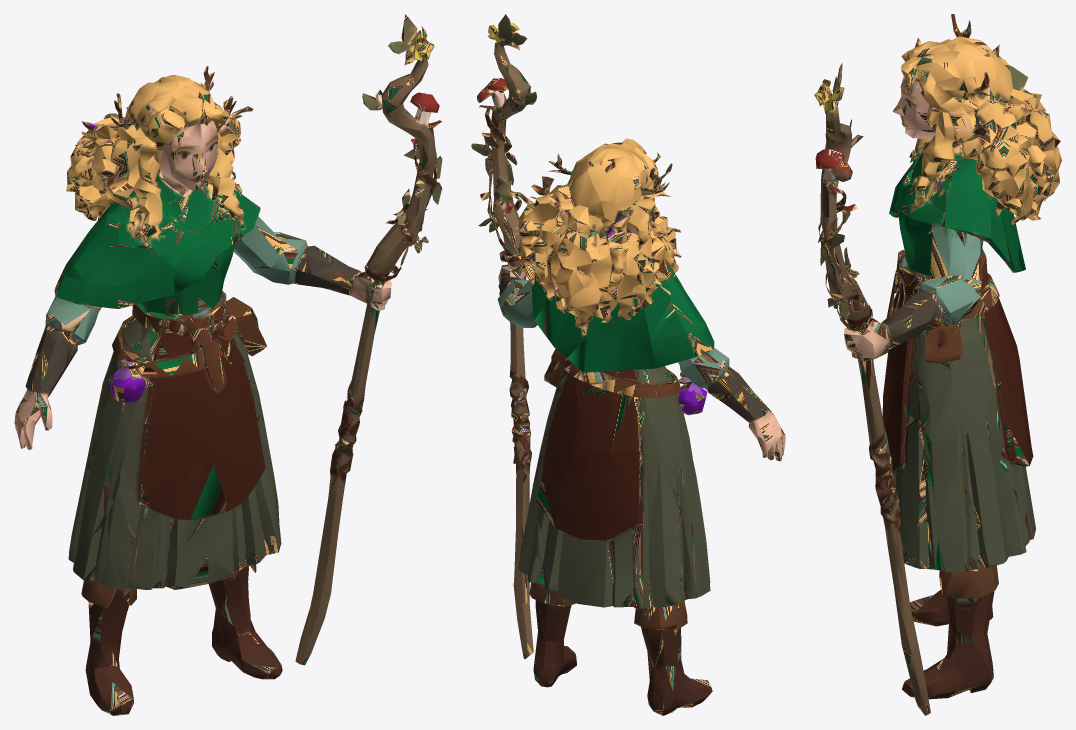
The model's file is Imeri_LOD2.glb.
The picture shows the model from 3 angles, left to right: view 1: azimuth 30°, elevation 25°; view 2: azimuth 150°, elevation 25°; view 3: azimuth 270°, elevation 25°; orthographic projection. The views are drawn at different scales.
Parts seen in each view (by area): view 1: Body; view 2: Body; view 3: Body.
Boxes of the visible parts, left/top/right/bottom form: Body: left=14, top=14, right=442, bottom=715; Body: left=471, top=14, right=785, bottom=715; Body: left=814, top=14, right=1061, bottom=715.
Size of the model in its own units: 1.02 by 1.7 by 0.5587.
Materials: 1 (1 with a texture image).
